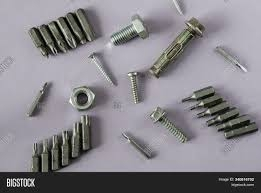metal: (147, 7, 209, 83), (145, 104, 189, 149), (108, 12, 151, 53), (85, 49, 121, 93), (114, 128, 158, 164), (208, 43, 252, 77), (22, 81, 56, 120), (24, 23, 51, 63), (123, 67, 148, 107), (62, 9, 87, 49), (66, 83, 98, 113), (73, 5, 98, 42), (37, 23, 60, 60), (75, 113, 95, 153), (54, 14, 76, 49), (46, 19, 69, 52), (26, 140, 47, 175), (47, 133, 65, 172), (68, 120, 84, 162), (58, 128, 74, 167), (39, 135, 53, 174)
